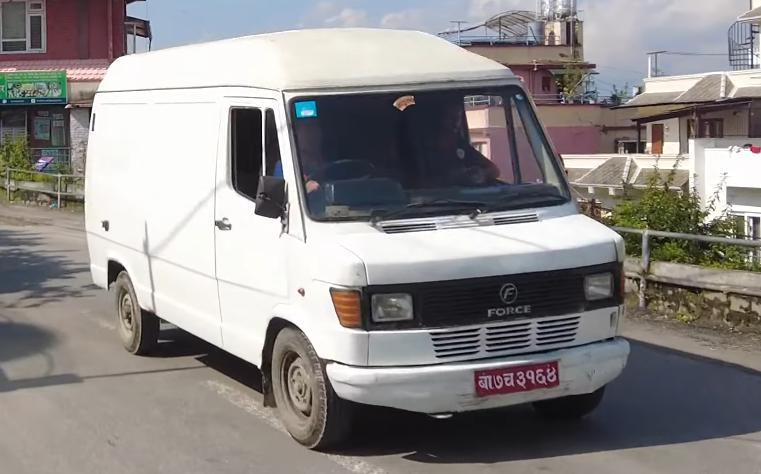micro_bus: (76, 25, 638, 466)
